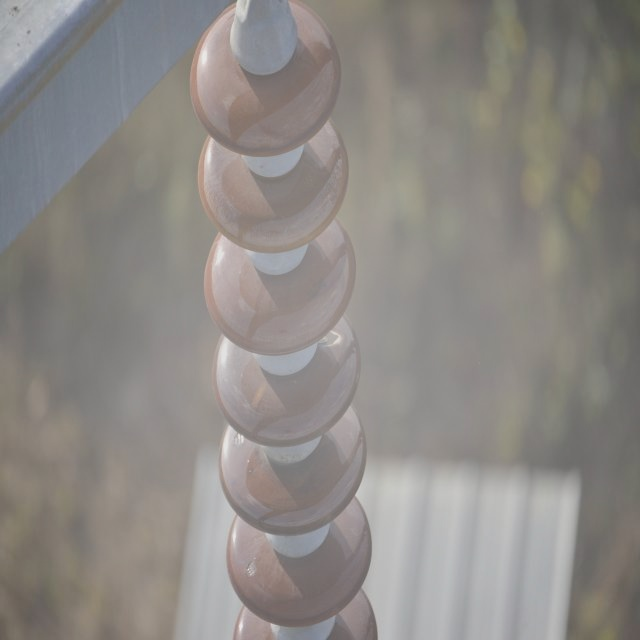insulator: (190, 0, 381, 637)
